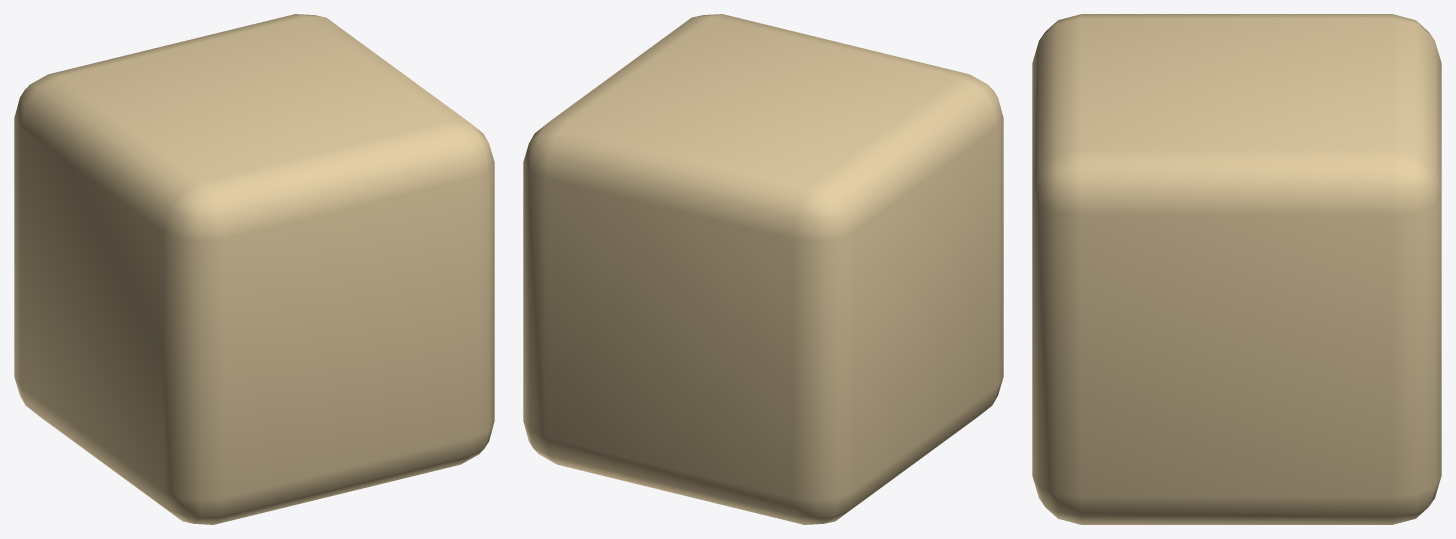
Rendered from puzzle_cell.glb.
3 views of the same model, side by side, from view 1: azimuth 30°, elevation 25°; view 2: azimuth 150°, elevation 25°; view 3: azimuth 270°, elevation 25° (orthographic). The views are drawn at different scales.
Visible parts, largest first — view 1: puzzle_cell; view 2: puzzle_cell; view 3: puzzle_cell.
Part boxes in pixels (box(x1,y1,x2,y2)): puzzle_cell: box(14, 14, 494, 524); puzzle_cell: box(523, 14, 1003, 524); puzzle_cell: box(1032, 14, 1441, 524).
Bounding box in the file's own units: 0.067 × 0.067 × 0.067.
